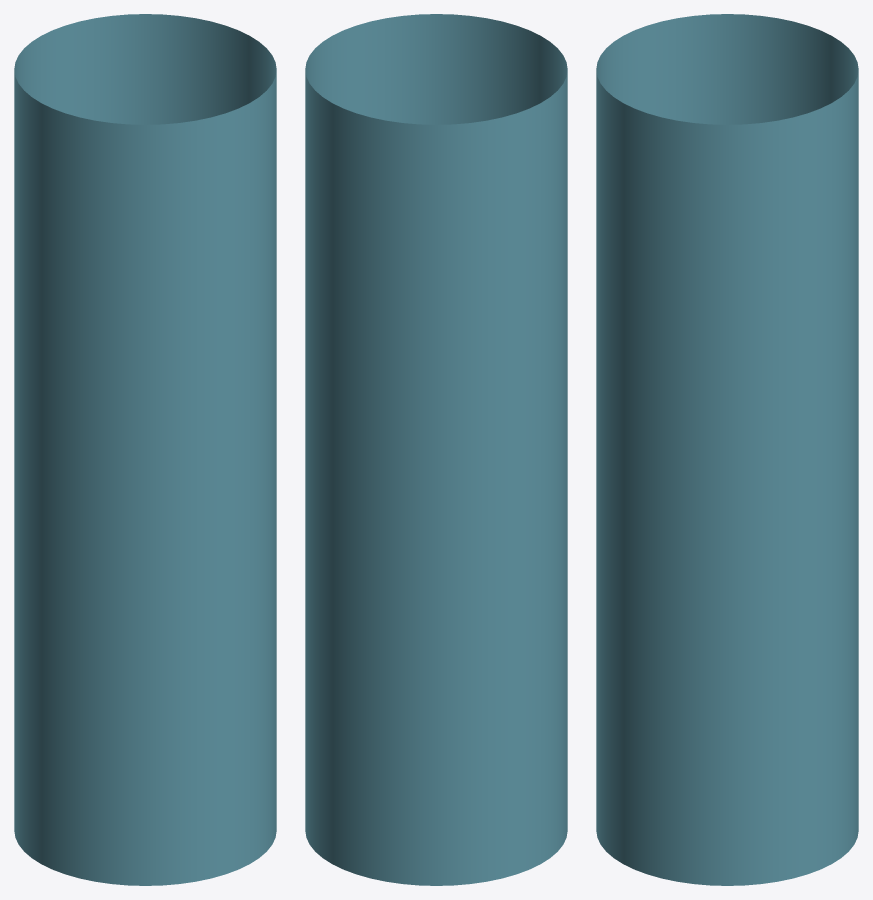
The model's file is kolba-steklo.glb.
The picture shows the model from 3 angles, left to right: view 1: azimuth 30°, elevation 25°; view 2: azimuth 150°, elevation 25°; view 3: azimuth 270°, elevation 25°; orthographic projection.
Visible parts, largest first — view 1: kolba-steklo; view 2: kolba-steklo; view 3: kolba-steklo.
Part boxes in pixels (<box>): kolba-steklo: <box>14,14,276,885</box>; kolba-steklo: <box>305,14,567,885</box>; kolba-steklo: <box>596,14,858,885</box>.
Size of the model in its own units: 0.5 by 1.6 by 0.5.
Materials: 1 (1 with a texture image).
